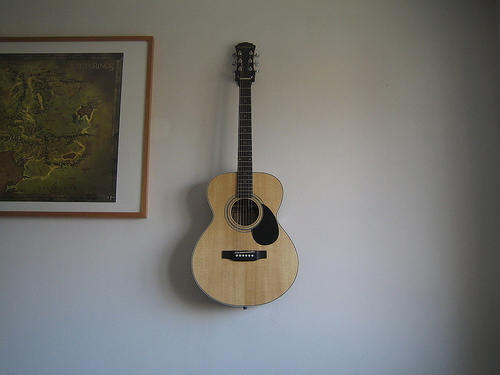guitar: (192, 43, 299, 308)
